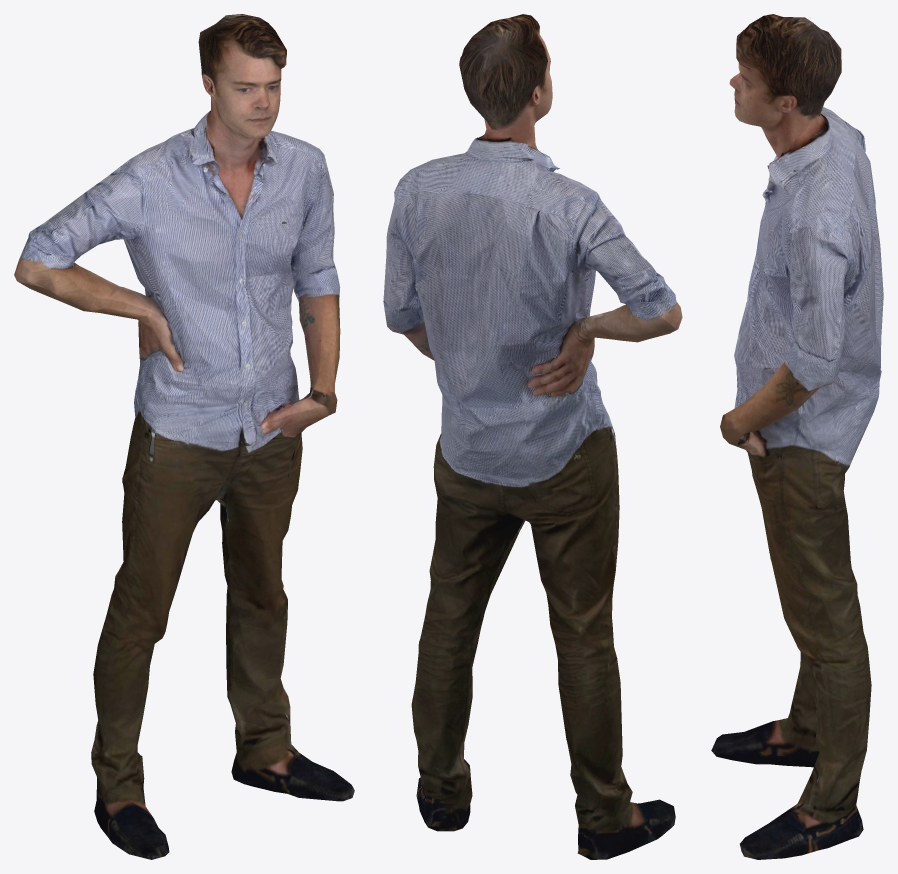
File: caleb.glb
3 views of the same model, side by side, from view 1: azimuth 30°, elevation 25°; view 2: azimuth 150°, elevation 25°; view 3: azimuth 270°, elevation 25° (orthographic).
Visible parts, largest first — view 1: CALEB_R_0; view 2: CALEB_R_0; view 3: CALEB_R_0.
Boxes of the visible parts, left/top/right/bottom form: CALEB_R_0: left=14, top=14, right=354, bottom=859; CALEB_R_0: left=383, top=14, right=682, bottom=859; CALEB_R_0: left=711, top=14, right=883, bottom=859.
Size of the model in its own units: 0.7387 by 1.82 by 0.3576.
Materials: 1 (1 with a texture image).
